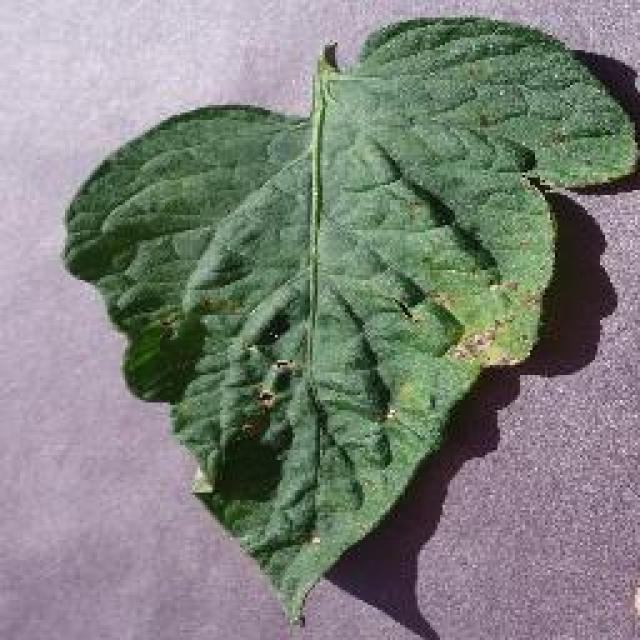Tomato___Target_Spot: (65, 18, 635, 622)
